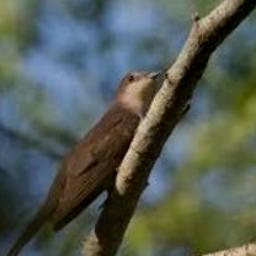Cuckoo: (0, 68, 164, 256)
